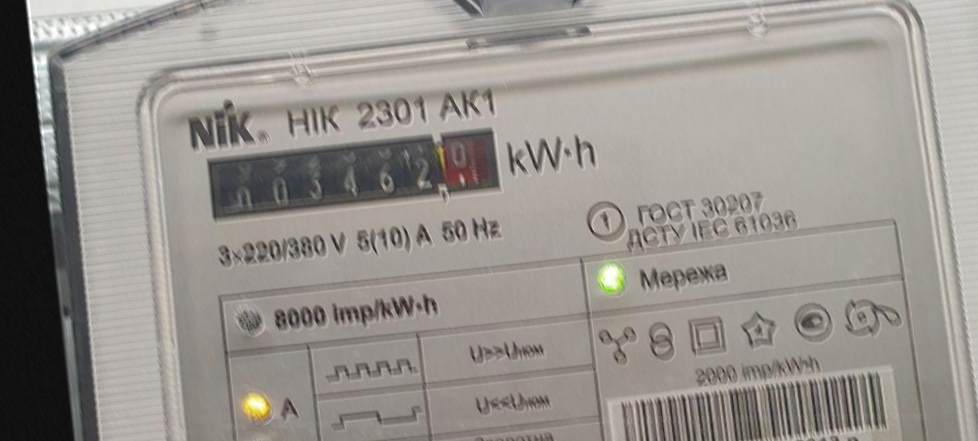0: (270, 175, 291, 205), (449, 140, 469, 170), (233, 185, 254, 210)
2: (413, 156, 434, 190)
3: (304, 169, 326, 203)
4: (341, 164, 361, 198)
6: (375, 160, 398, 196)
9: (233, 162, 255, 183)
screen: (193, 116, 513, 240)
